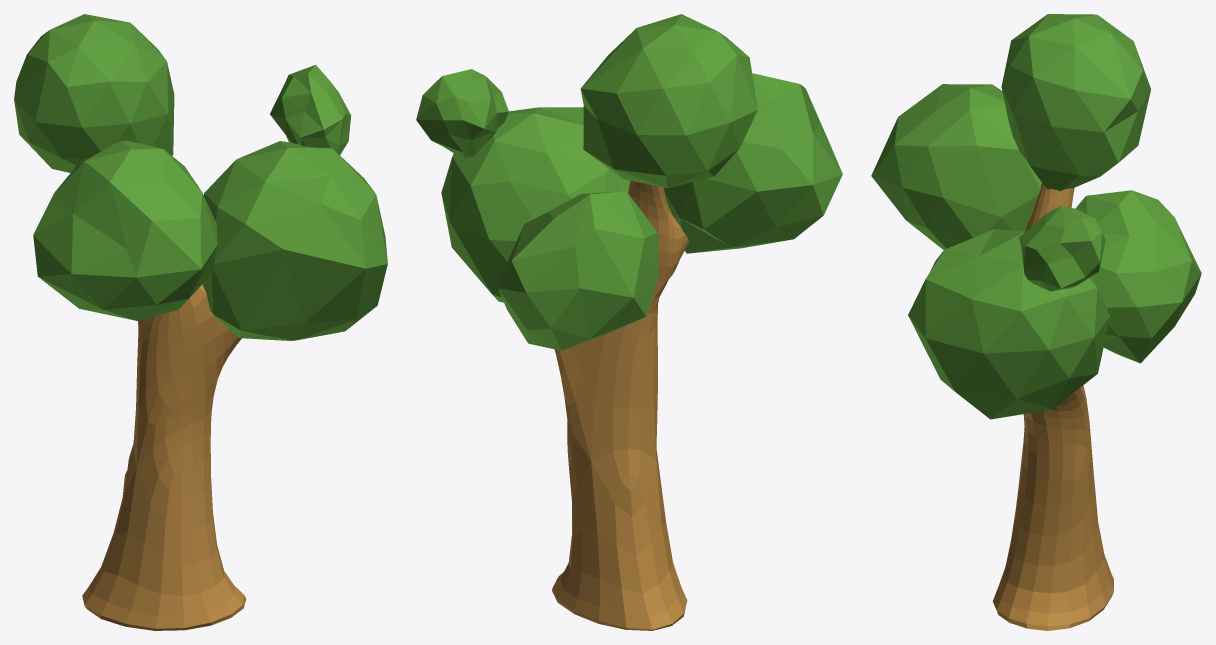
The model's file is Tree_2.fbx.
3 views of the same model, side by side, from view 1: azimuth 30°, elevation 25°; view 2: azimuth 150°, elevation 25°; view 3: azimuth 270°, elevation 25° (orthographic). The views are drawn at different scales.
Parts seen in each view (by area): view 1: Leaves, Tree_2; view 2: Leaves, Tree_2; view 3: Leaves, Tree_2.
Boxes of the visible parts, x1,y1,x2,y2 form: Leaves: (14, 14, 387, 340); Tree_2: (82, 284, 245, 630); Leaves: (416, 14, 842, 350); Tree_2: (552, 180, 688, 630); Leaves: (871, 14, 1201, 419); Tree_2: (992, 183, 1113, 630).
Size of the model in its own units: 682 by 1104 by 597.
